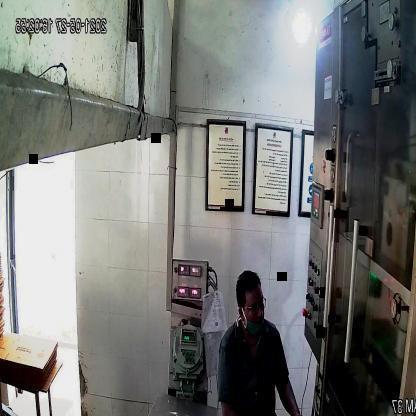goggles: (239, 294, 269, 316)
